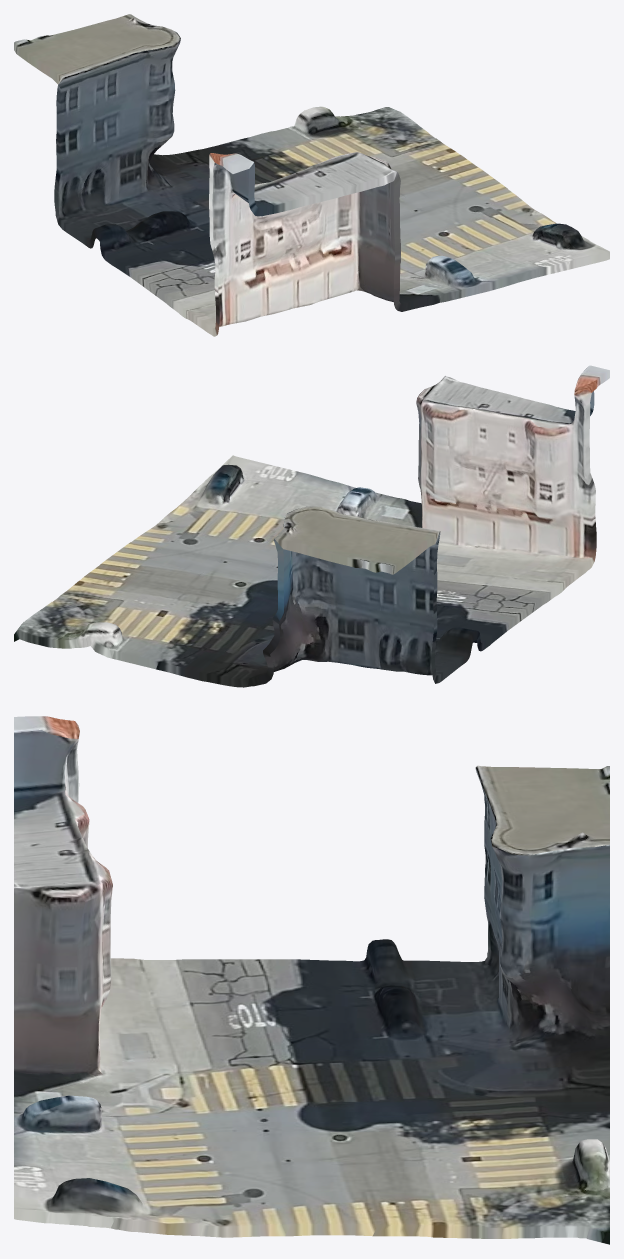
Rendered from z20-167739-405196-h0-yup-uvflip-v3-world.glb.
The picture shows the model from 3 angles, top to bottom: view 1: azimuth 30°, elevation 25°; view 2: azimuth 150°, elevation 25°; view 3: azimuth 270°, elevation 25°; orthographic projection. The views are drawn at different scales.
Size of the model in its own units: 30.16 by 15.6 by 30.32.
1 material, 1 textured.
